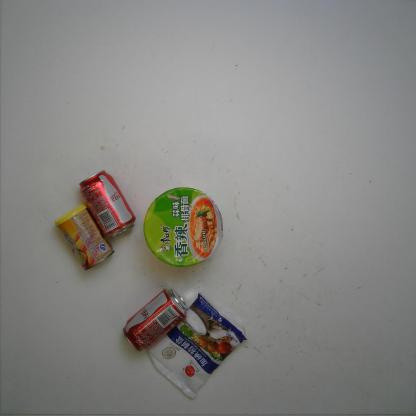Canned Food: (53, 204, 114, 271)
Drink: (122, 288, 188, 352), (79, 169, 135, 239)
Instant Noodles: (144, 186, 223, 267)
Seasoner: (147, 293, 248, 401)
